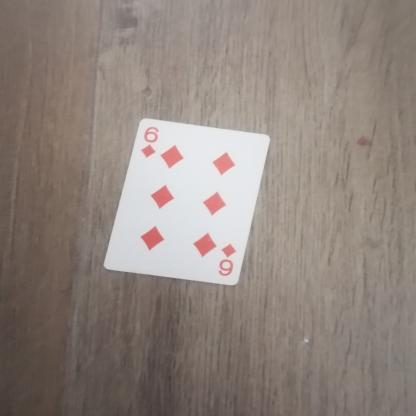6D: (215, 240, 249, 282), (134, 123, 168, 163)
